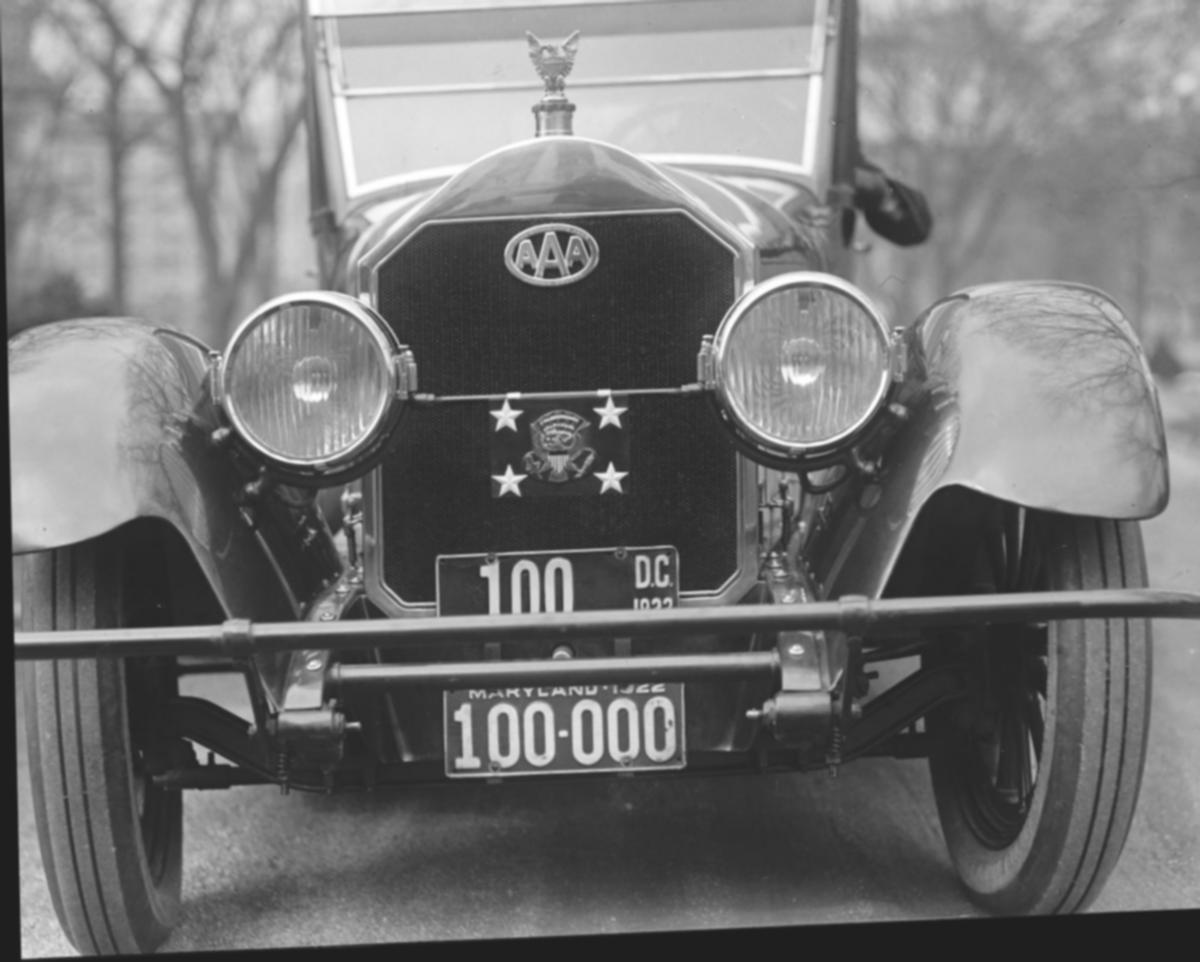License_Plate: (426, 555, 693, 789)
